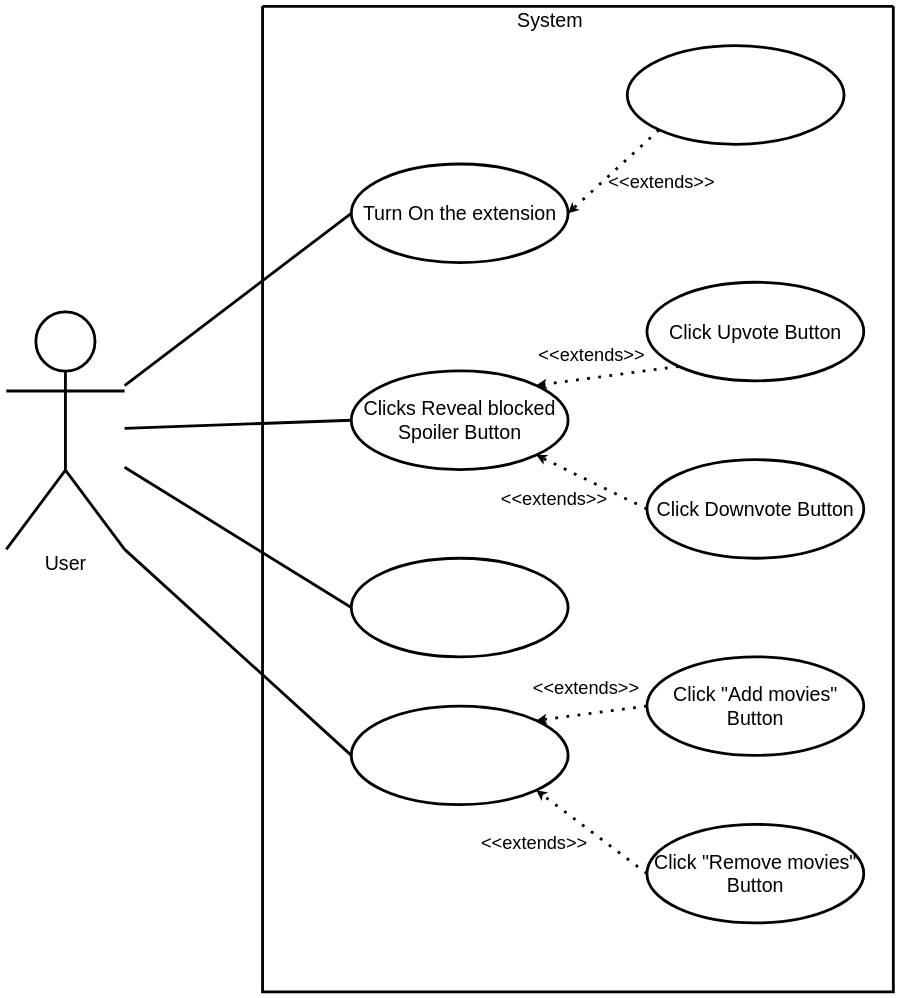
Some shapes in this 899 by 998 pixel diagram are drawn without their labels. The shapes that lost their labels are listed below. From the top down, each one's centre as x and y in pixels, then its label:
pixel 735 95: Turn Off the extension
pixel 459 607: Click "Flag it as spoiler" Button
pixel 459 755: Click "Show Blocked Movies" Button
